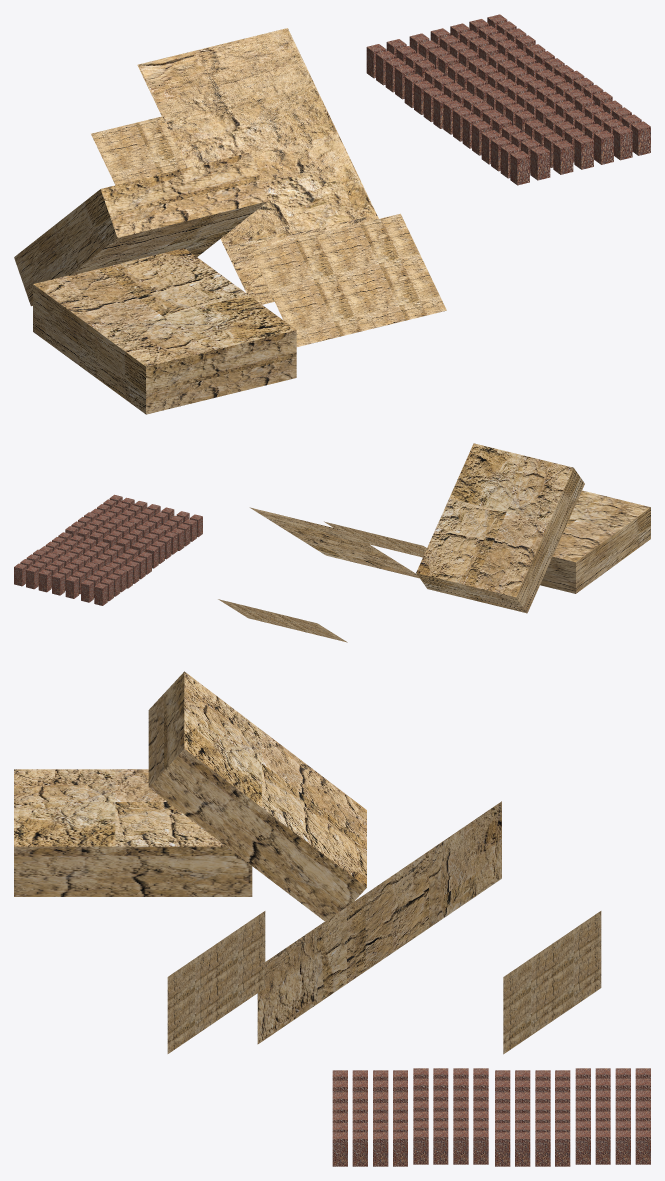
Rendered from Sumerian_entrance_onConstruction.fbx.
3 views of the same model, one above another, from view 1: azimuth 30°, elevation 25°; view 2: azimuth 150°, elevation 25°; view 3: azimuth 270°, elevation 25° (orthographic). The views are drawn at different scales.
Visible parts, largest first — view 1: Circle, Cube.000, Cube.149, Cube.151, Cube.340, Cube.020, Cube.047, Cube.052, Cube.670, Cube.015, Cube.675, Cube.702; view 2: Cube.149, Cube.000, Circle, Cube.340, Cube.151; view 3: Cube.149, Cube.000, Circle, Cube.151, Cube.340.
Part boxes in pixels (x1,y1,x2,y2): Circle: (137, 28, 378, 304); Cube.000: (33, 248, 296, 414); Cube.149: (14, 152, 267, 306); Cube.151: (250, 213, 446, 346); Cube.340: (91, 116, 186, 185); Cube.020: (530, 146, 550, 180); Cube.047: (553, 140, 573, 174); Cube.052: (574, 135, 593, 169); Cube.670: (594, 130, 613, 164); Cube.015: (510, 151, 529, 185); Cube.675: (613, 126, 632, 160); Cube.702: (631, 121, 650, 155); Cube.149: (416, 443, 584, 613); Cube.000: (540, 490, 650, 593); Circle: (249, 507, 419, 578); Cube.340: (218, 599, 347, 642); Cube.151: (324, 521, 426, 557); Cube.149: (148, 671, 366, 920); Cube.000: (14, 769, 252, 896); Circle: (257, 801, 501, 1044); Cube.151: (167, 911, 265, 1053); Cube.340: (503, 911, 601, 1054).
Size of the model in its own units: 1307 by 378 by 1043.
